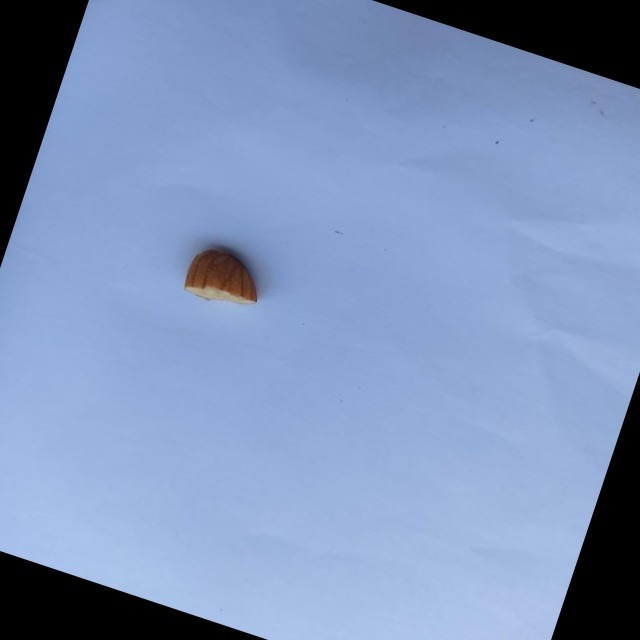grade4: (173, 234, 279, 322)
